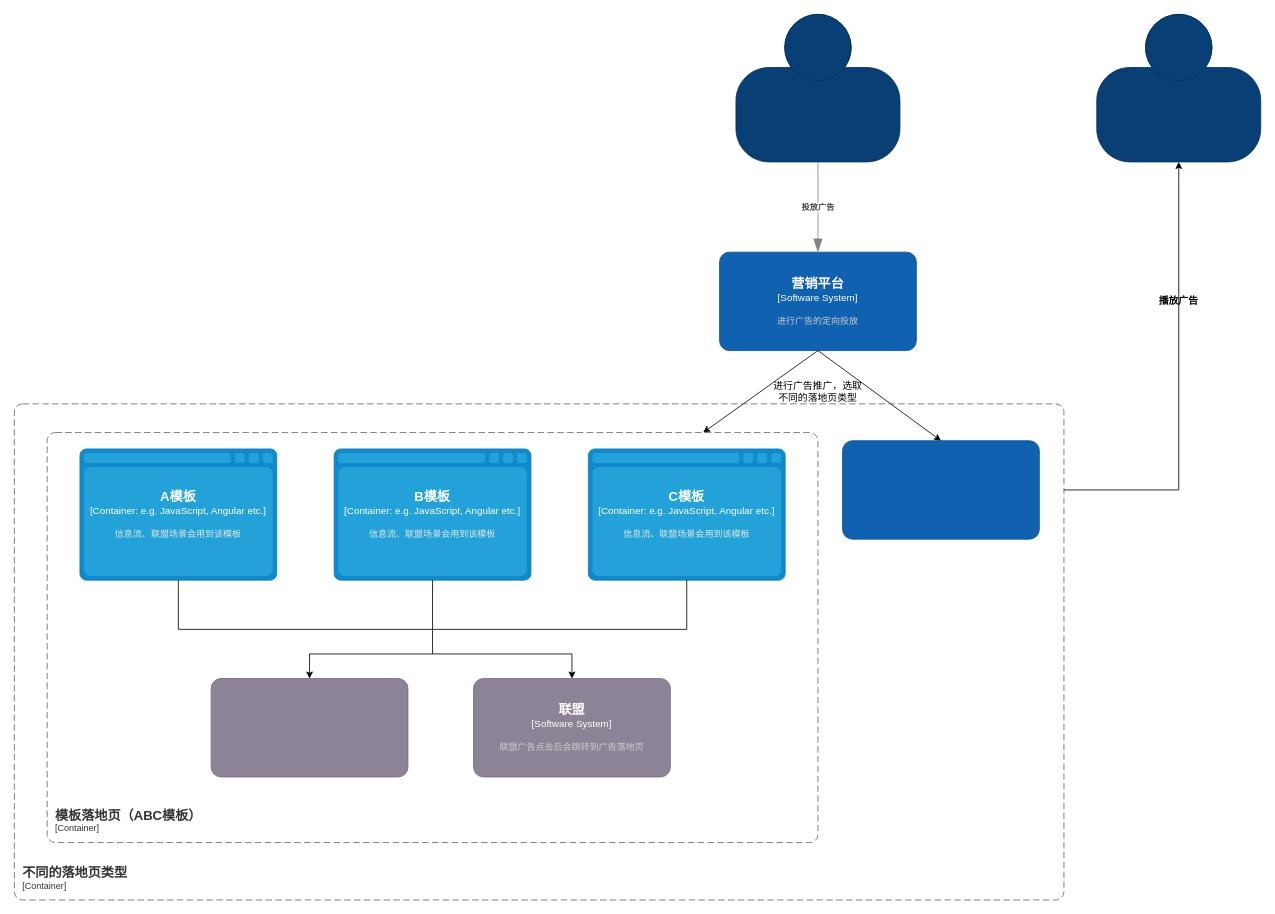
Image size: 1275x914. Some labels were removed from this diagram. The shapes that lost their labels are listed below. From the top down, each one's centre as x and y in pixels, then its label:
point 817,88: 广告主 [Person] 有广告投放的相关诉求
point 1178,88: 落地页客户 [Person] 联盟、信息流等广告场景会打开该落地页
point 940,489: 建站落地页 [Software System] 通过建站系统进行落地页的自定义生成
point 309,727: 信息流SDK [Software System] 信息流SDK中间页点击后会跳转到落地页
